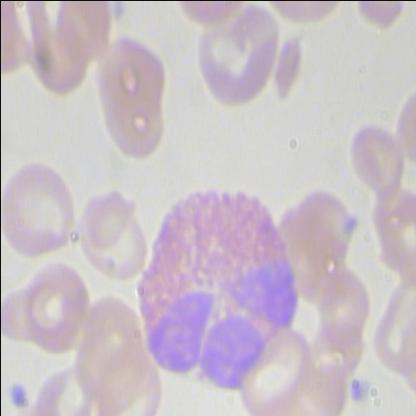Platelets: (4, 375, 33, 410), (346, 373, 368, 401)
RBC: (188, 1, 283, 114), (97, 34, 171, 164), (75, 179, 153, 277), (1, 160, 77, 260), (350, 115, 402, 191), (393, 78, 415, 182)
WBC: (133, 182, 305, 390)
